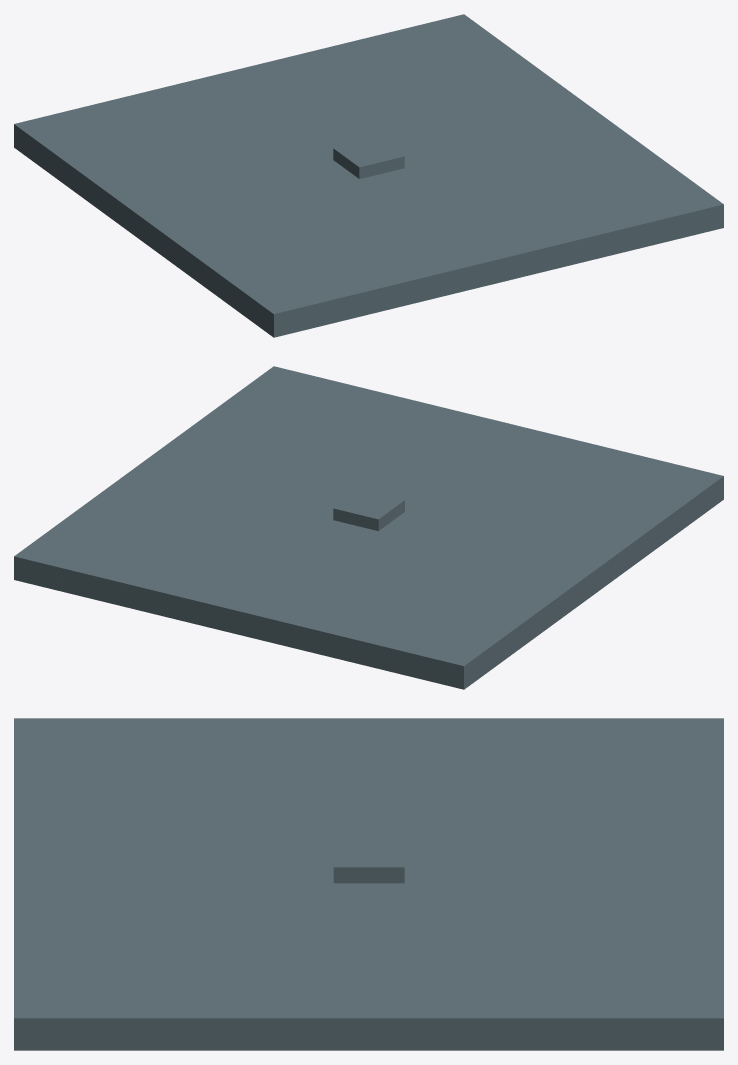
The model's file is Platforms.glb.
The picture shows the model from 3 angles, top to bottom: view 1: azimuth 30°, elevation 25°; view 2: azimuth 150°, elevation 25°; view 3: azimuth 270°, elevation 25°; orthographic projection. The views are drawn at different scales.
Parts seen in each view (by area): view 1: Large Platform 1, Large Platform 2, Large Platform 3, Meduim Platform 2, Meduim Platform 3, Bar Platform 1, Cube Platform 1, Meduim Platform 1, Bar Platform 3, Cube Platform 2, Bar Platform 2; view 2: Large Platform 3, Large Platform 1, Large Platform 2, Meduim Platform 1, Meduim Platform 3, Cube Platform 1, Meduim Platform 2, Cube Platform 3, Cube Platform 2; view 3: Large Platform 3, Large Platform 2, Large Platform 1, Meduim Platform 2, Meduim Platform 1, Bar Platform 1, Meduim Platform 3, Bar Platform 3, Cube Platform 2, Cube Platform 3.
Part boxes in pixels (x1,y1,x2,y2): Large Platform 1: (14,14,690,313); Large Platform 2: (14,15,723,337); Large Platform 3: (22,14,723,337); Meduim Platform 2: (244,136,487,199); Meduim Platform 3: (224,116,488,204); Bar Platform 1: (228,68,500,260); Cube Platform 1: (333,137,403,178); Meduim Platform 1: (263,113,464,215); Bar Platform 3: (240,69,509,261); Cube Platform 2: (349,138,404,177); Bar Platform 2: (487,256,510,285); Large Platform 3: (14,366,723,669); Large Platform 1: (14,366,723,689); Large Platform 2: (14,367,688,689); Meduim Platform 1: (235,483,512,549); Meduim Platform 3: (224,475,513,546); Cube Platform 1: (333,489,404,530); Meduim Platform 2: (246,479,495,566); Cube Platform 3: (333,491,402,529); Cube Platform 2: (333,497,404,529); Large Platform 3: (14,718,723,1050); Large Platform 2: (14,718,723,1050); Large Platform 1: (14,718,723,1050); Meduim Platform 2: (280,793,457,942); Meduim Platform 1: (280,793,457,943); Bar Platform 1: (14,861,723,875); Meduim Platform 3: (280,793,453,943); Bar Platform 3: (14,861,723,875); Cube Platform 2: (333,837,404,883); Cube Platform 3: (333,837,404,883).
Size of the model in its own units: 20 by 2 by 20.
1 material, 1 textured.
